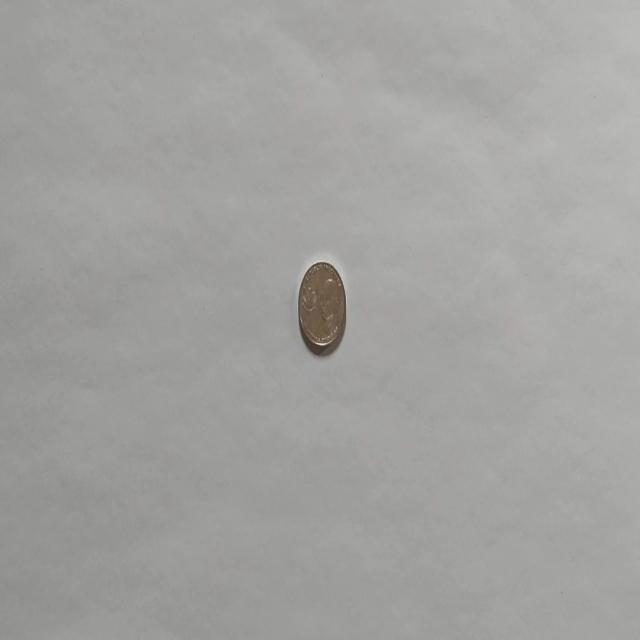lima ratus rupiah: (297, 258, 347, 354)
